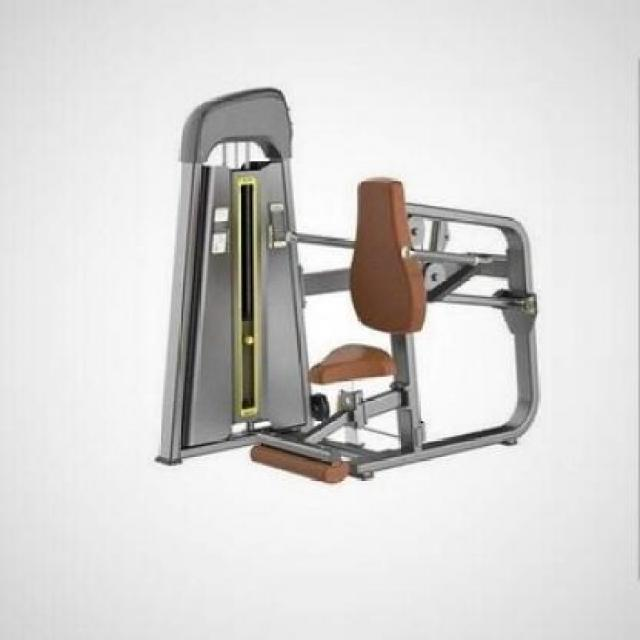seated dip machine: (155, 82, 554, 489)
